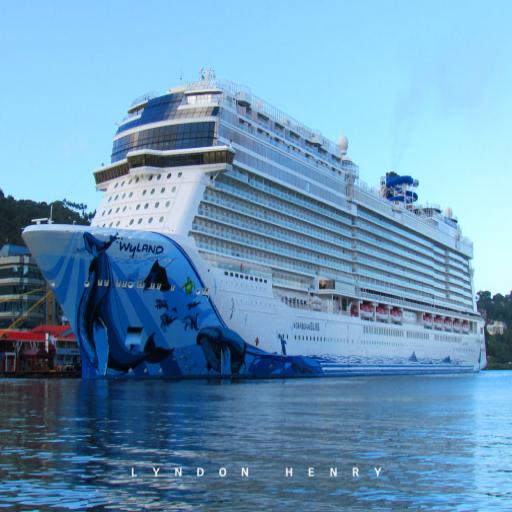cruises: (20, 64, 490, 392)
